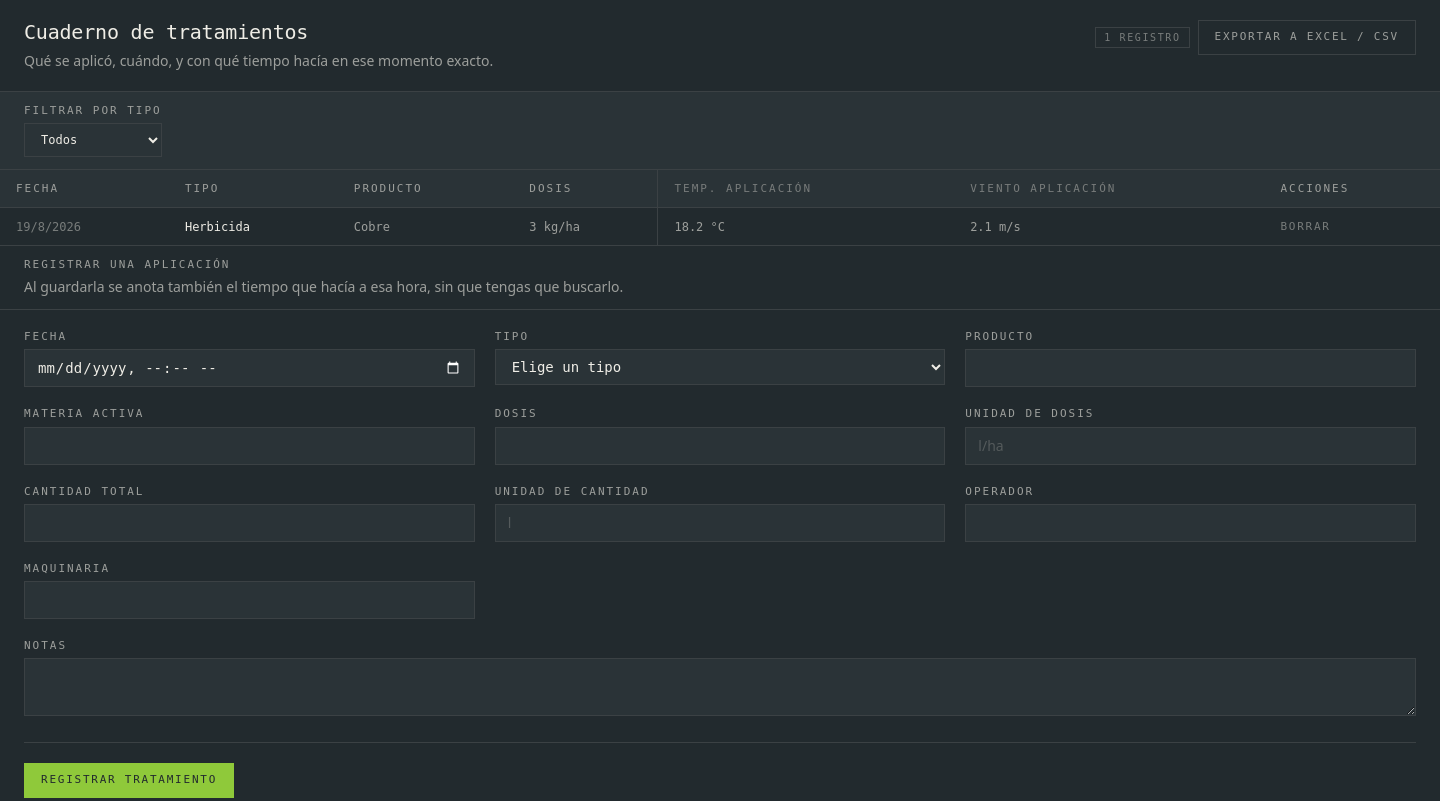
Test: crear un tratamiento con fecha pasada lo inserta en su sitio, no al principio
Type "2026-01-01T10:00" into the field labelled "Fecha" at (249, 368), box 24,349 -> 475,387
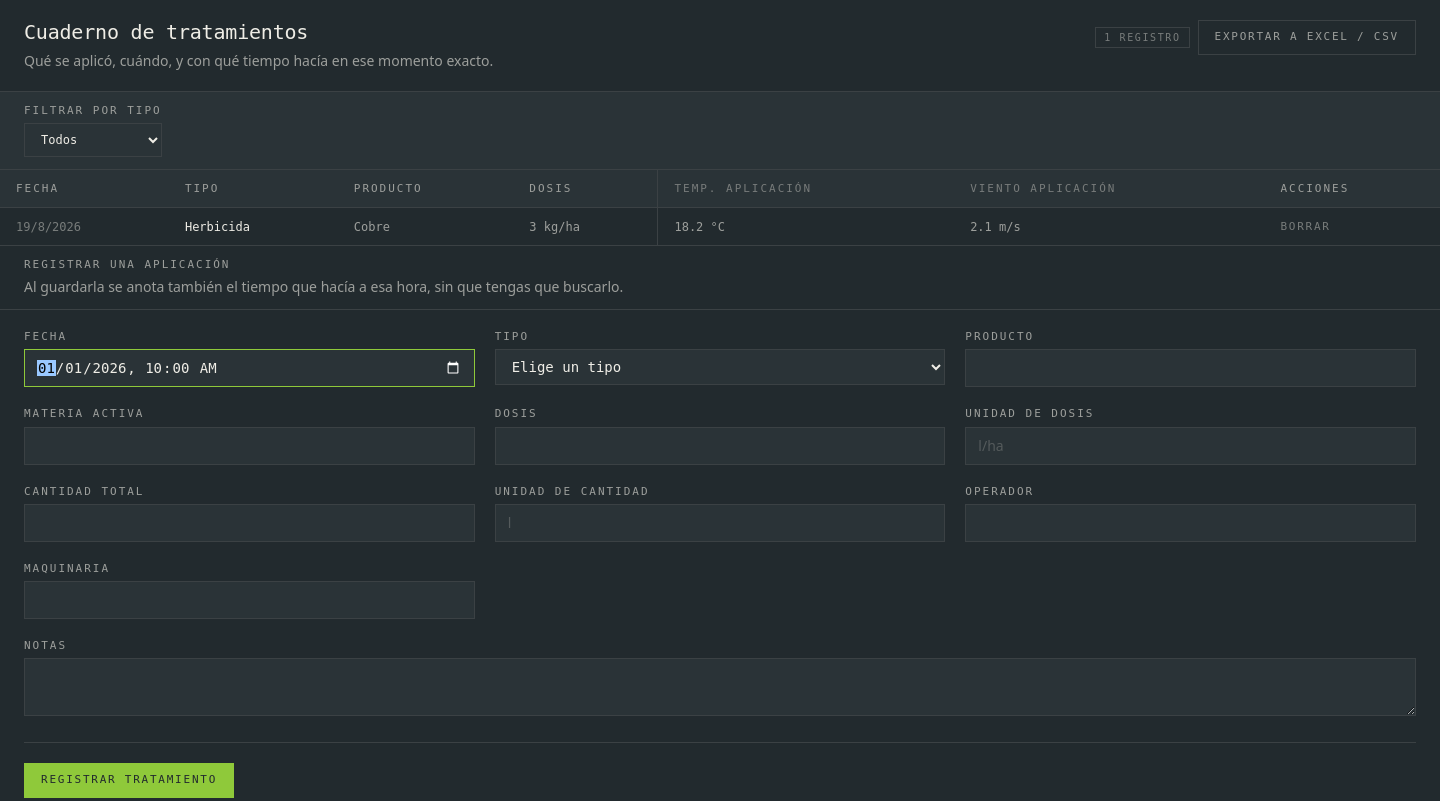
Select "Fungicida" in the dropdown labelled "Tipo" at (720, 367), box 495,349 -> 945,385
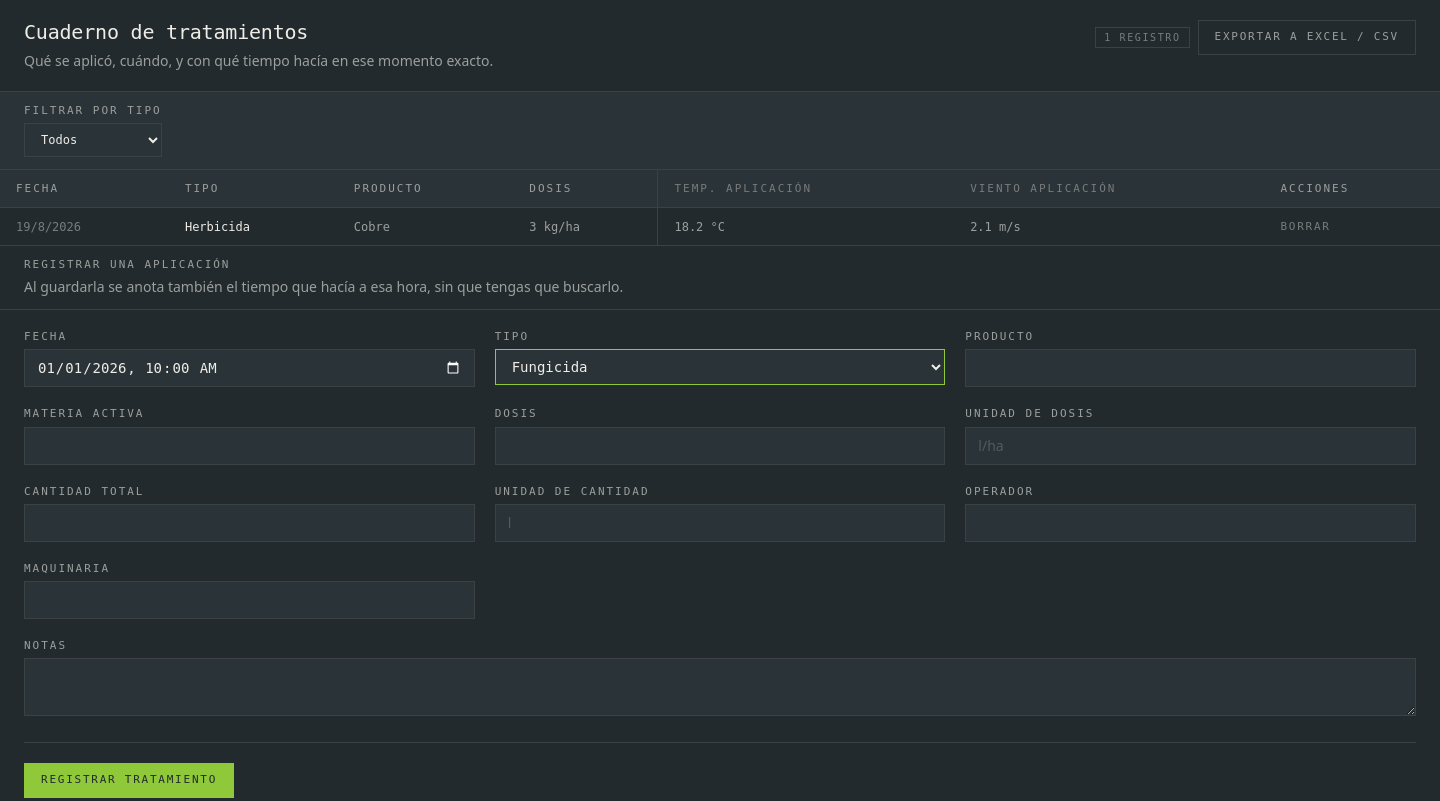
Click the button "Registrar tratamiento" at (129, 780), box 24,763 -> 234,798
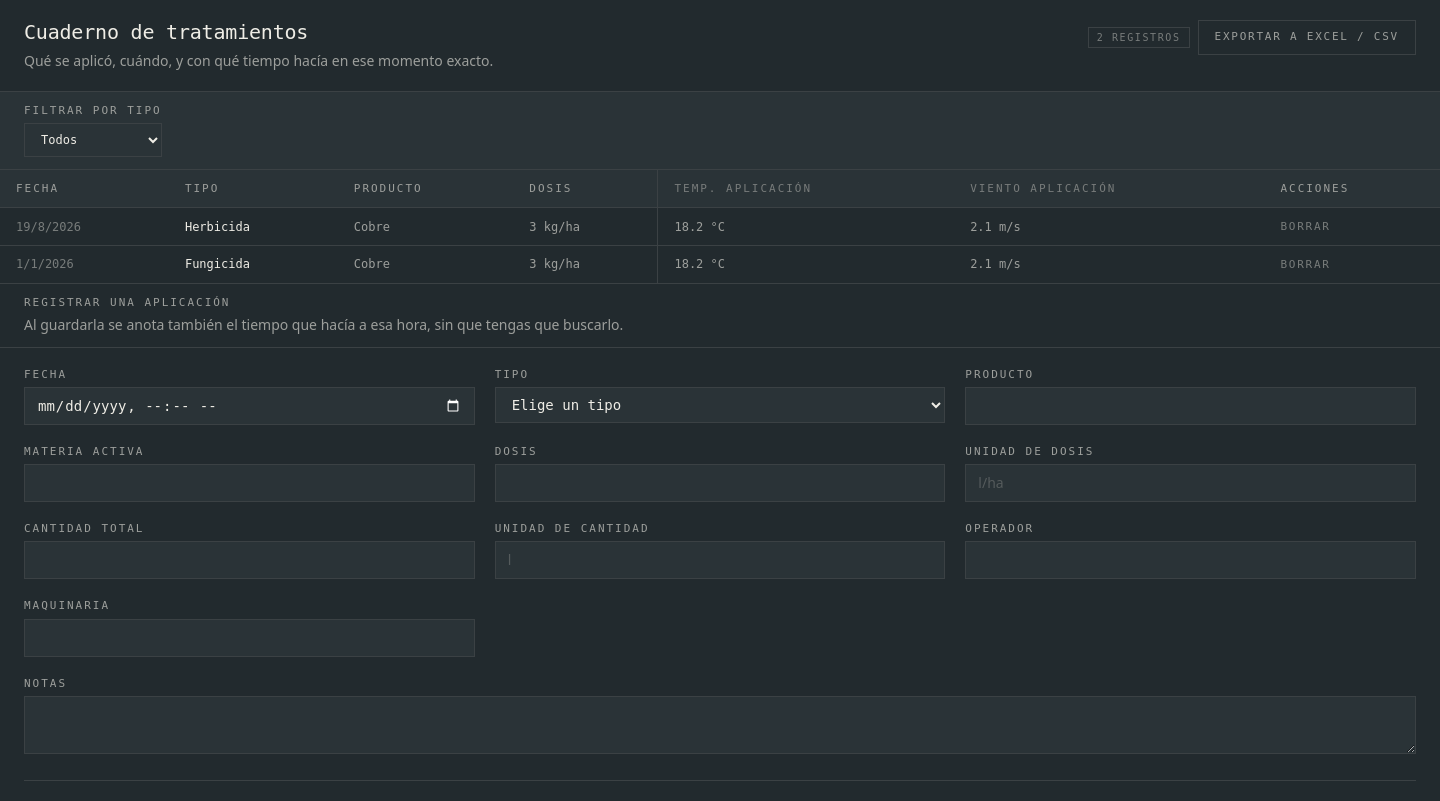
Expected: the row "19/8/2026 Herbicida Cobre 3 kg/ha 18.2 °C 2.1 m/s Borrar" is shown, 0,208 -> 1439,246
Now the row "1/1/2026 Fungicida Cobre 3 kg/ha 18.2 °C 2.1 m/s Borrar" is shown, box 0,246 -> 1439,283
